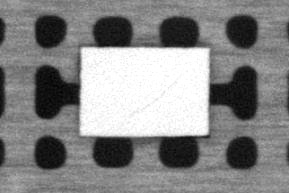DIE_CRACK: (133, 70, 184, 113)
